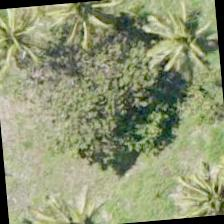Kelapa_Sawit: (134, 35, 223, 133), (44, 0, 141, 77), (0, 4, 69, 90), (165, 154, 223, 220)
